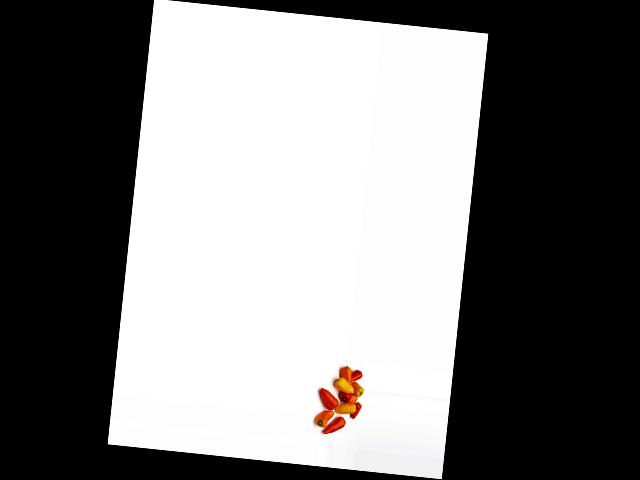bell_pepper: (351, 401, 362, 421)
